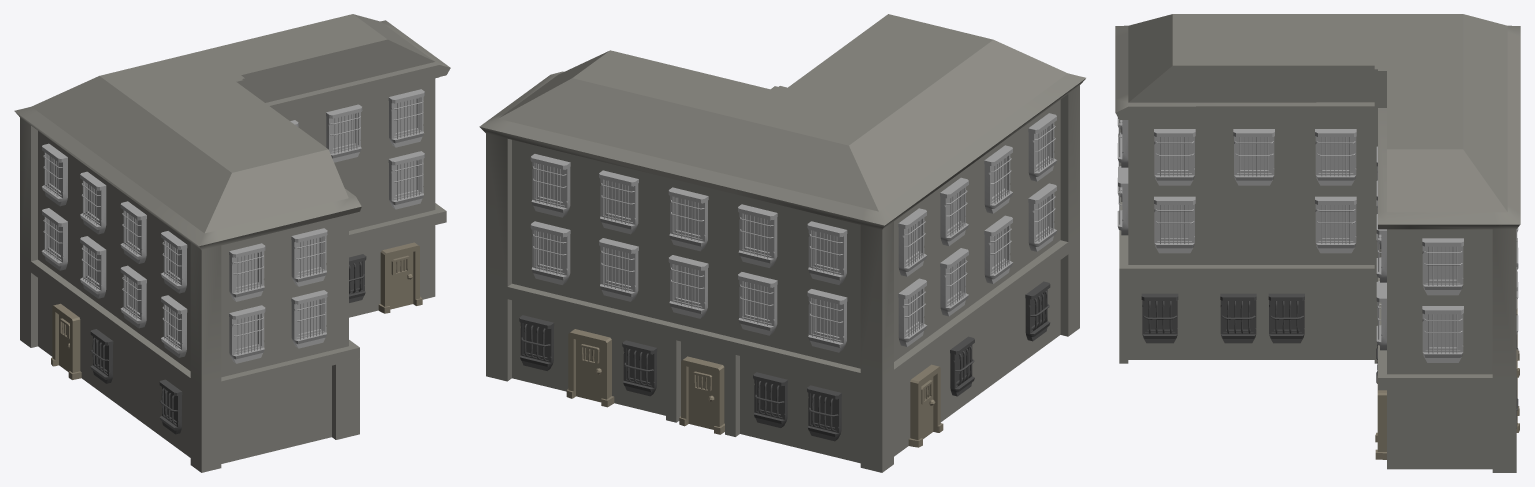
Rendered from LD_Building_Corner.fbx.
The picture shows the model from 3 angles, left to right: view 1: azimuth 30°, elevation 25°; view 2: azimuth 150°, elevation 25°; view 3: azimuth 270°, elevation 25°; orthographic projection. The views are drawn at different scales.
Visible parts, largest first — view 1: Window54; view 2: Window54; view 3: Window54.
Boxes of the visible parts, left/top/right/bottom form: Window54: left=14, top=14, right=450, bottom=472; Window54: left=479, top=14, right=1085, bottom=472; Window54: left=1115, top=14, right=1520, bottom=472.
Size of the model in its own units: 15.7 by 10.85 by 13.54.
